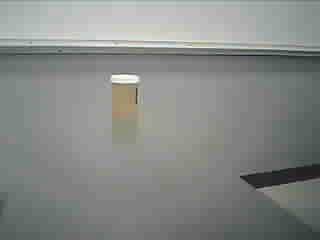Bottle B: (106, 67, 150, 127)
